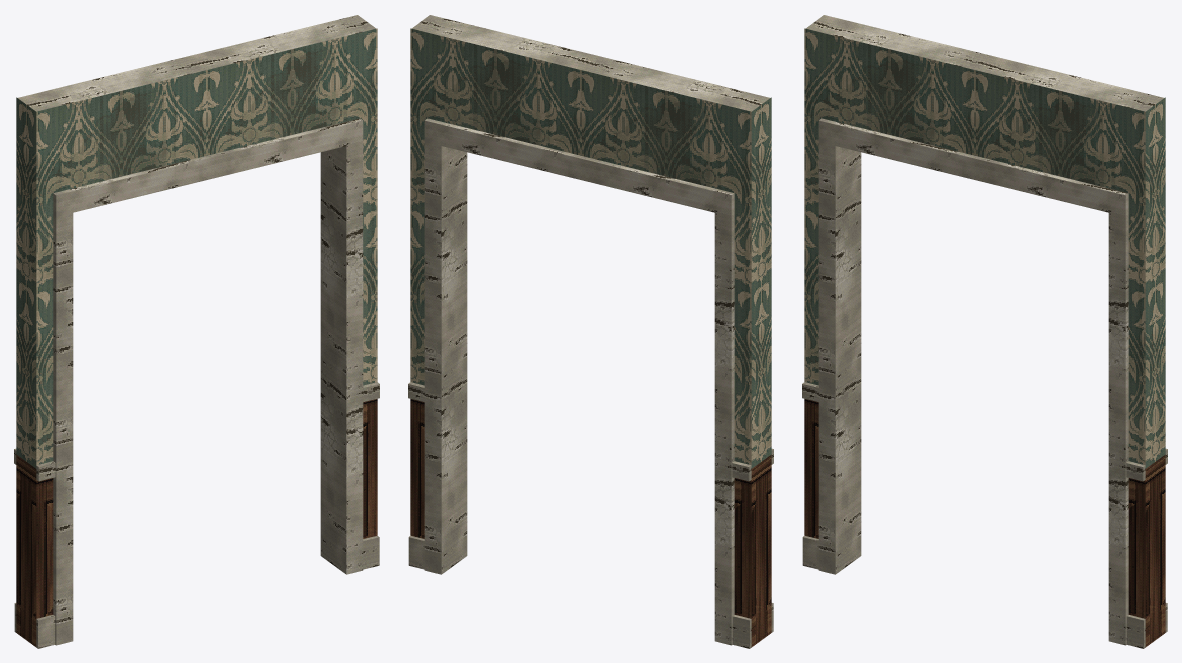
File: house_wall_doorway.glb
3 renders of one model, left to right at view 1: azimuth 30°, elevation 25°; view 2: azimuth 150°, elevation 25°; view 3: azimuth 330°, elevation 25°, orthographic.
Parts seen in each view (by area): view 1: house_wall_doorway; view 2: house_wall_doorway; view 3: house_wall_doorway.
Boxes of the visible parts, <box> form: house_wall_doorway: <box>14,15,379,648</box>; house_wall_doorway: <box>408,15,773,648</box>; house_wall_doorway: <box>802,15,1167,648</box>.
Bounding box in the file's own units: 2 × 3 × 0.26.
3 materials, 3 textured.
